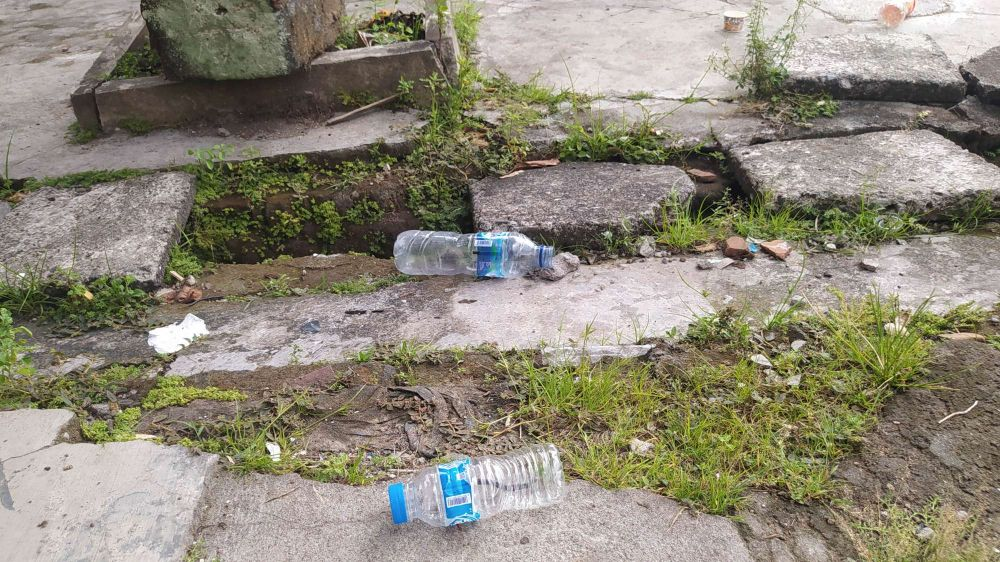botol: (368, 444, 580, 526), (382, 221, 577, 289)
